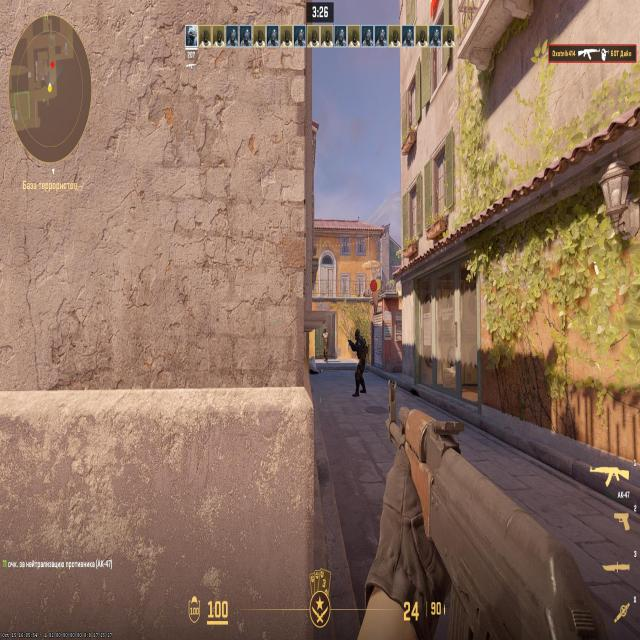CT: (355, 330, 365, 391)
CT_heat: (355, 334, 362, 344)
T: (323, 329, 327, 358)
T_heat: (325, 333, 327, 340)
